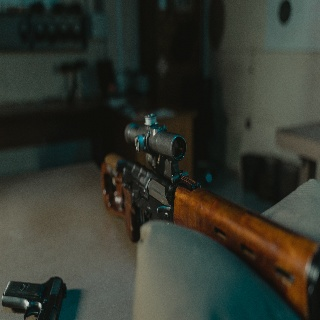pistol: (2, 274, 70, 320)
rifle: (99, 113, 320, 320)
